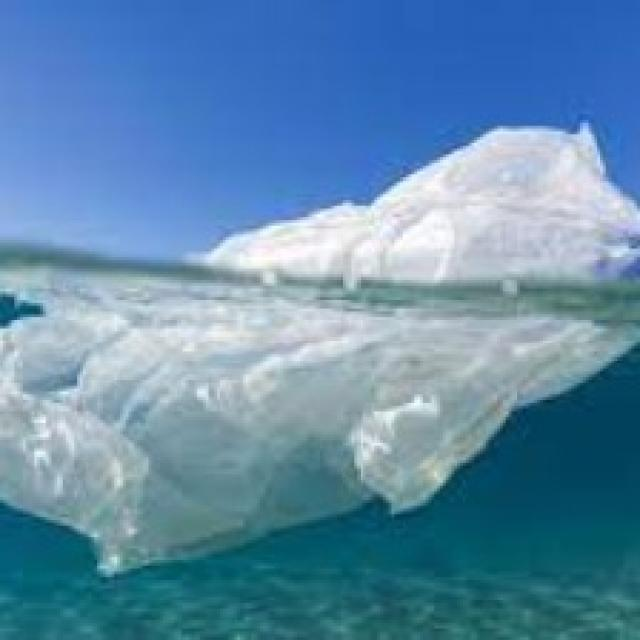plastic_bag: (1, 81, 640, 575)
